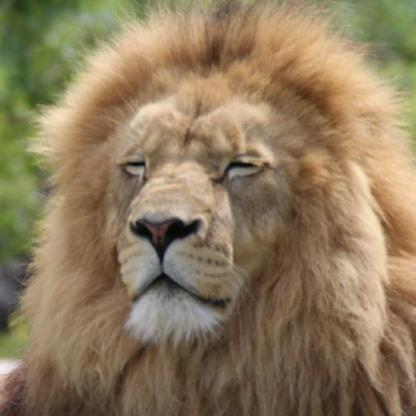lion: (72, 68, 359, 350)
